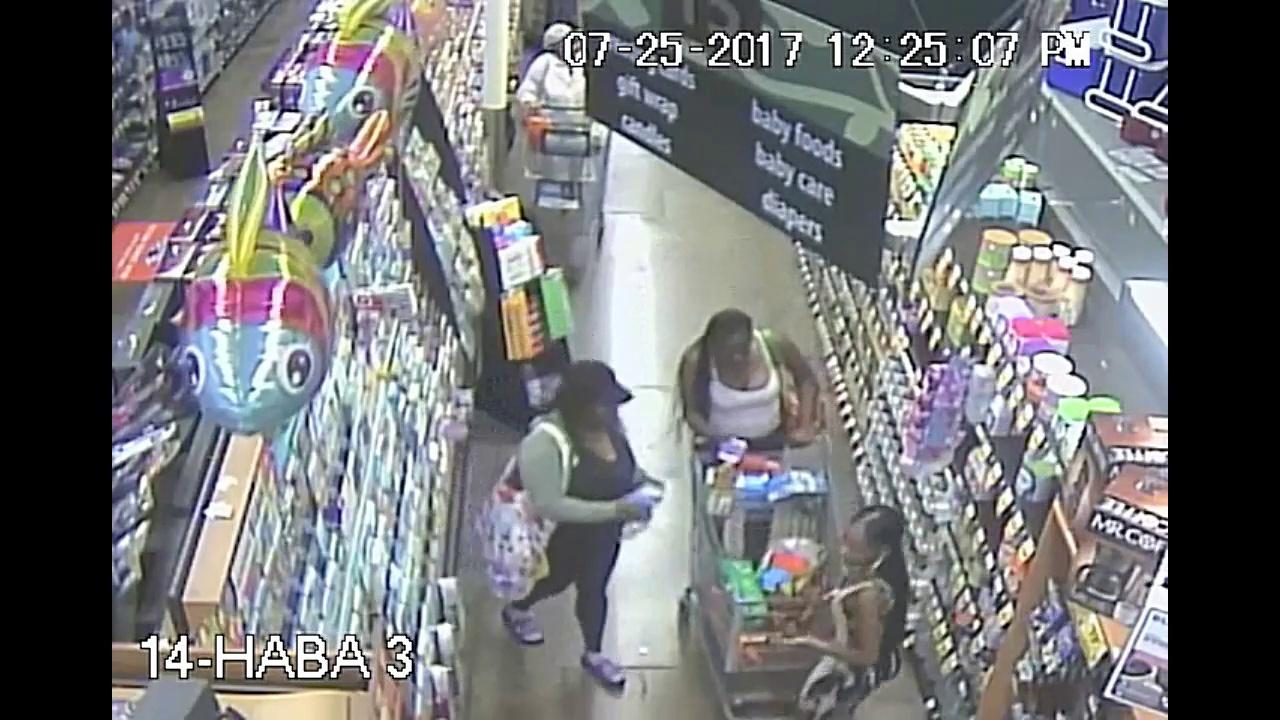Customer-Bagpack: (479, 474, 557, 615), (780, 386, 843, 447)
Regular: (451, 350, 678, 718), (776, 507, 966, 720), (667, 309, 871, 477)
Shopping-Cart: (704, 457, 829, 559)
